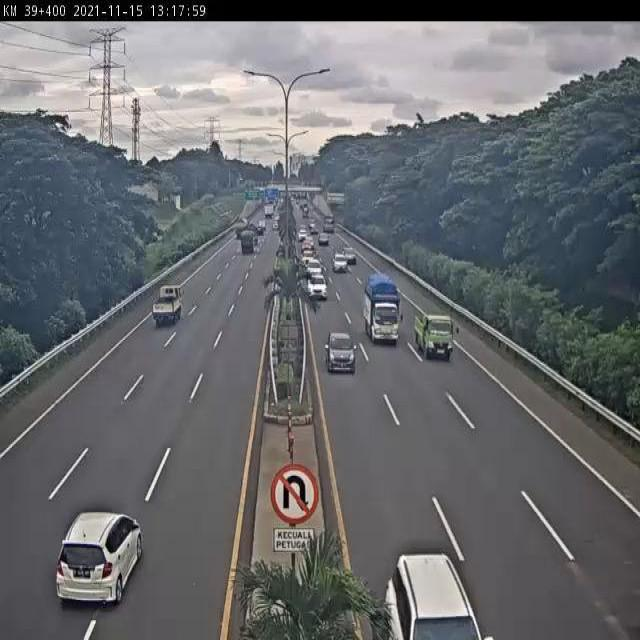car: (55, 504, 145, 607), (324, 330, 358, 378), (307, 272, 329, 301)
truck-m-: (362, 273, 402, 347)
truck-s-: (413, 306, 455, 362), (152, 285, 185, 327)
